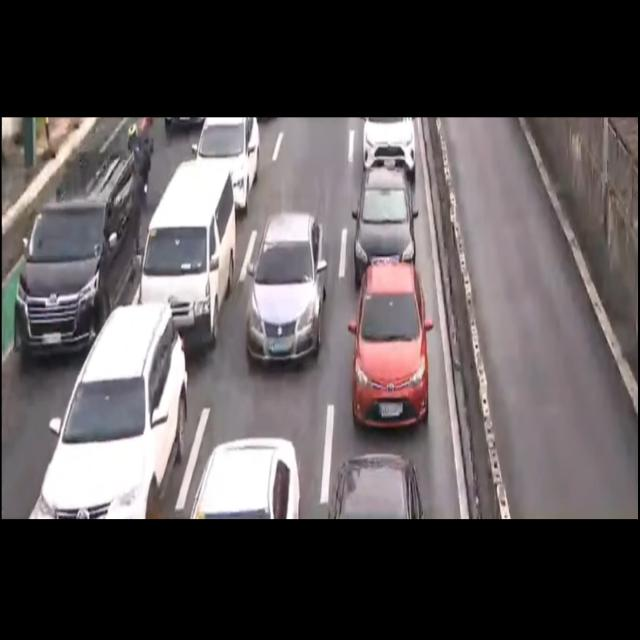Motorcycle: (120, 117, 152, 207)
SUV: (36, 311, 185, 519)
Sedan: (351, 264, 429, 426), (245, 210, 323, 364), (190, 437, 302, 517), (353, 168, 416, 278), (192, 118, 260, 209), (328, 453, 424, 517)
Van: (18, 150, 134, 351), (136, 167, 231, 354)
